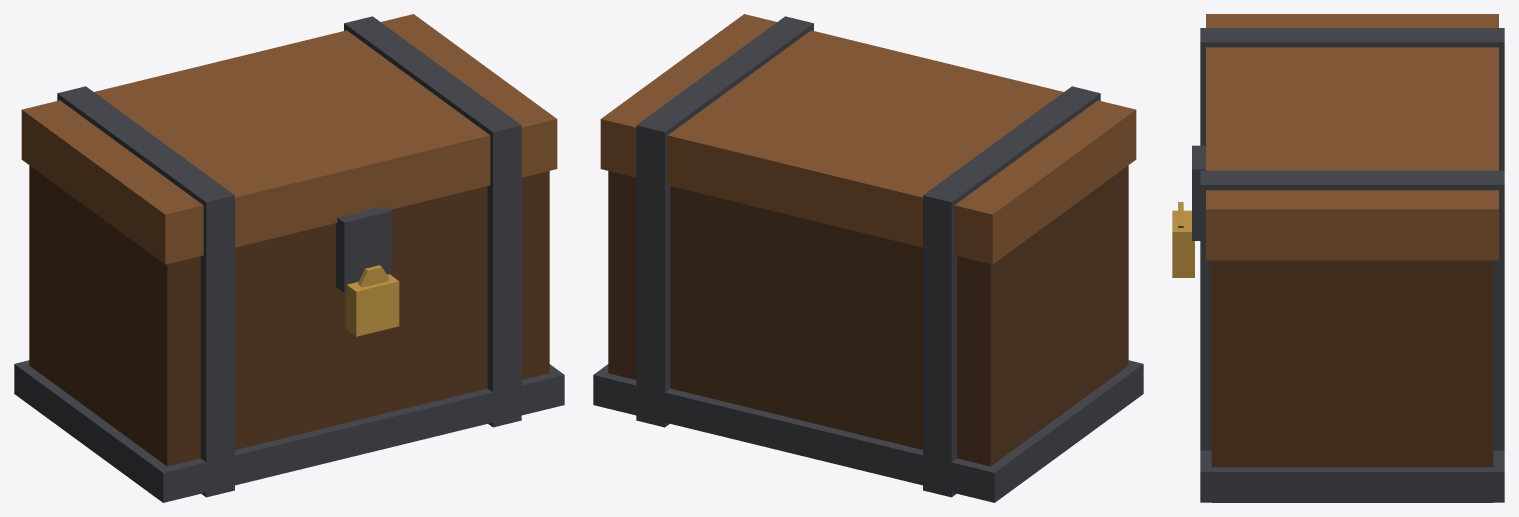
The model's file is mine_strongbox.glb.
The picture shows the model from 3 angles, left to right: view 1: azimuth 30°, elevation 25°; view 2: azimuth 150°, elevation 25°; view 3: azimuth 270°, elevation 25°; orthographic projection. The views are drawn at different scales.
Parts seen in each view (by area): view 1: mine_strongbox; view 2: mine_strongbox; view 3: mine_strongbox.
Boxes of the visible parts, bbox=[...] form: mine_strongbox: bbox=[14, 14, 564, 502]; mine_strongbox: bbox=[593, 14, 1143, 502]; mine_strongbox: bbox=[1172, 14, 1504, 502].
Bounding box in the file's own units: 0.84 × 0.59 × 0.59.
